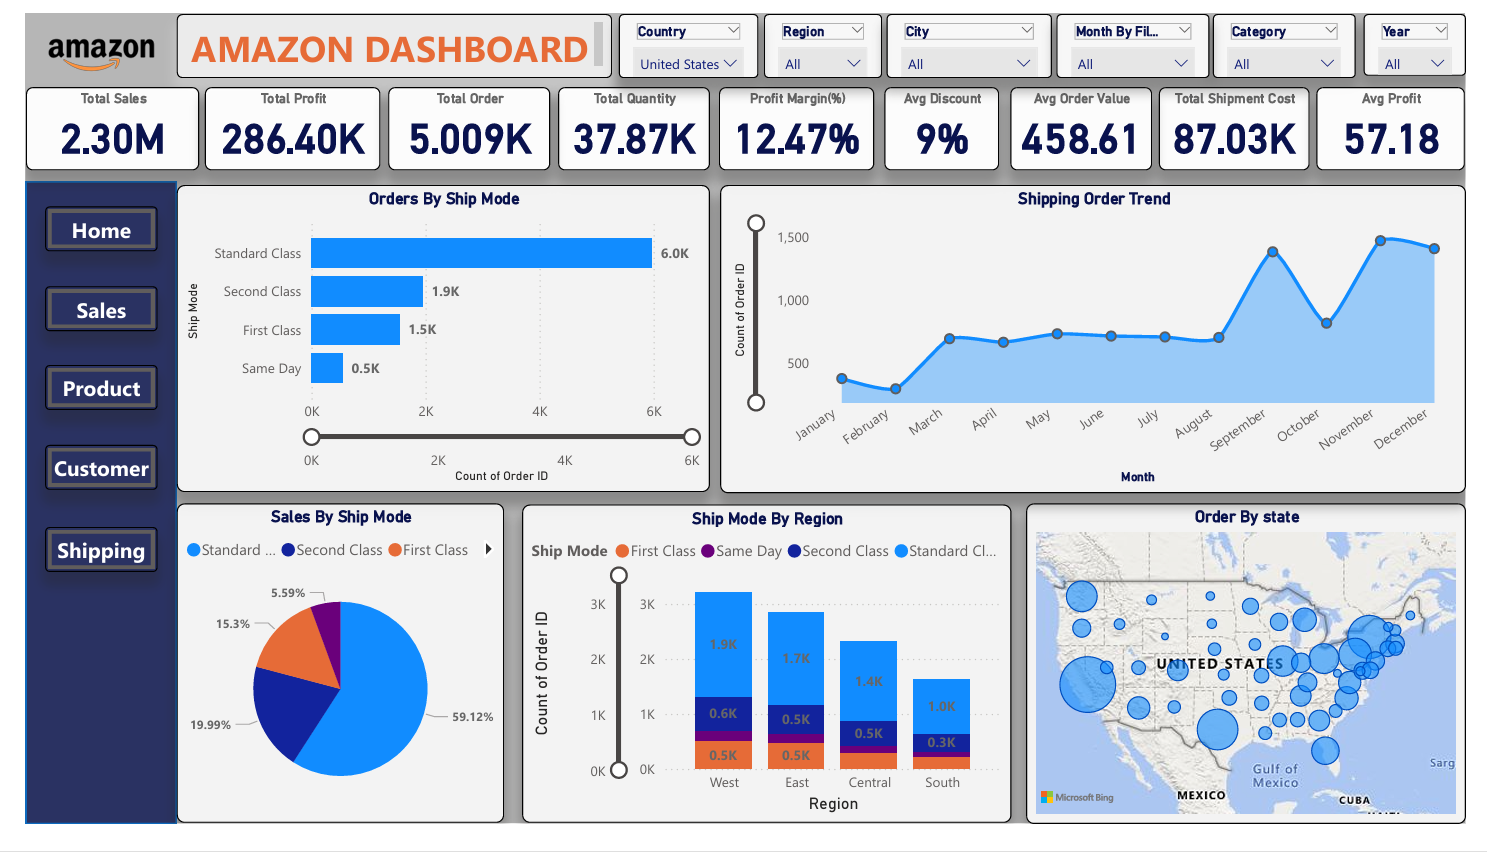

This screenshot's page, from the dashboard's own definition file:
{"tool":"powerbi","page":{"name":"Shipping overview","canvas":[1280,720],"ordinal":5},"visuals":[{"type":"shape","box":[0,149.5,134,570.1],"z":0},{"type":"textbox","box":[134,0,386.6,56.7],"z":1000},{"type":"card","title":"Total Sales","fields":{"Values":["All Mesure.Total Sales"]},"box":[0,64.9,153.6,74.2],"z":2000},{"type":"card","title":"Total Profit","fields":{"Values":["All Mesure.Total Profit"]},"box":[158.8,64.9,156.7,74.2],"z":3000},{"type":"card","title":"Total Quantity","fields":{"Values":["All Mesure.Total Quantity"]},"box":[473.2,64.9,135.1,74.2],"z":4000},{"type":"card","title":"Total Order","fields":{"Values":["All Mesure.Total Ordes"]},"box":[321.6,64.9,144.3,74.2],"z":5000},{"type":"card","title":"Profit Margin(%)","fields":{"Values":["All Mesure.Profit Margin %"]},"box":[616.5,64.9,137.1,74.2],"z":6000},{"type":"card","title":"Avg Discount","fields":{"Values":["All Mesure.Avg Discount"]},"box":[762.9,64.9,102.1,74.2],"z":7000},{"type":"card","title":"Total Shipment Cost","fields":{"Values":["All Mesure.Total Shipment Cost"]},"box":[1007.2,64.9,134,74.2],"z":8000},{"type":"card","title":"Avg Order Value","fields":{"Values":["All Mesure.Avg Order value"]},"box":[875.3,64.9,125.8,74.2],"z":9000},{"type":"slicer","fields":{"Values":["Amazon Sales.Region"]},"box":[656,0,105,57],"z":10000},{"type":"slicer","fields":{"Values":["Amazon Sales.Year"]},"box":[1189,0,91,55],"z":11000},{"type":"slicer","fields":{"Values":["Amazon Sales.Category"]},"box":[1055,0,127,57],"z":12000},{"type":"slicer","fields":{"Values":["Amazon Sales.City"]},"box":[765,0,147,57],"z":13000},{"type":"slicer","fields":{"Values":["Amazon Sales.Country"]},"box":[527,0,124,57],"z":14000},{"type":"slicer","fields":{"Values":["Amazon Sales.Month Name"]},"box":[916,0,136,57],"z":15000},{"type":"card","title":"Avg Profit","fields":{"Values":["All Mesure.Avg Profit"]},"box":[1147.4,64.9,132,74.2],"z":16000},{"type":"clusteredBarChart","title":"Orders By Ship Mode","fields":{"Category":["Amazon Sales.Ship Mode"],"Y":["CountNonNull(Amazon Sales.Order ID)"]},"box":[134.5,152.3,473.4,273.1],"z":17000},{"type":"pieChart","title":"Sales By Ship Mode","fields":{"Category":["Amazon Sales.Ship Mode"],"Y":["All Mesure.Total Sales"]},"box":[134.5,435,290.9,284],"z":18000},{"type":"map","title":"Order By state","fields":{"Category":["Amazon Sales.State"],"Size":["CountNonNull(Amazon Sales.Order ID)"]},"box":[889.2,435,391.1,285.4],"z":19000},{"type":"lineChart","title":"Shipping Order Trend","fields":{"Category":["Amazon Sales.Order Date.Variation.Date Hierarchy.Month"],"Y":["CountNonNull(Amazon Sales.Order ID)"]},"box":[616.7,152.2,663.3,273.3],"z":20000},{"type":"columnChart","title":"Ship Mode By Region","fields":{"Series":["Amazon Sales.Ship Mode"],"Category":["Amazon Sales.Region"],"Y":["CountNonNull(Amazon Sales.Order ID)"]},"box":[441.1,435.6,434.4,283.3],"z":21000},{"type":"actionButton","box":[16.7,242.2,100,40],"z":22000},{"type":"actionButton","box":[16.7,171.1,100,40],"z":23000},{"type":"actionButton","box":[16.7,312.2,100,40],"z":24000},{"type":"actionButton","box":[16.7,383.3,100,40],"z":25000},{"type":"actionButton","box":[16.7,455.6,100,40],"z":26000},{"type":"image","box":[0,0,134.4,65.6],"z":27000}]}

Visuals, with their boxes in screenshot pixels (x1, y1, x2, y2), scaled from the page's 1280x720 canvas onto the 1487x852 screenshot:
shape: l=0, t=177, r=156, b=851
textbox: l=156, t=0, r=605, b=67
"Total Sales" card: l=0, t=77, r=178, b=165
"Total Profit" card: l=184, t=77, r=367, b=165
"Total Quantity" card: l=550, t=77, r=707, b=165
"Total Order" card: l=374, t=77, r=541, b=165
"Profit Margin(%)" card: l=716, t=77, r=875, b=165
"Avg Discount" card: l=886, t=77, r=1005, b=165
"Total Shipment Cost" card: l=1170, t=77, r=1326, b=165
"Avg Order Value" card: l=1017, t=77, r=1163, b=165
slicer - Amazon Sales.Region: l=762, t=0, r=884, b=67
slicer - Amazon Sales.Year: l=1381, t=0, r=1486, b=65
slicer - Amazon Sales.Category: l=1226, t=0, r=1373, b=67
slicer - Amazon Sales.City: l=889, t=0, r=1059, b=67
slicer - Amazon Sales.Country: l=612, t=0, r=756, b=67
slicer - Amazon Sales.Month Name: l=1064, t=0, r=1222, b=67
"Avg Profit" card: l=1333, t=77, r=1486, b=165
"Orders By Ship Mode" clusteredBarChart: l=156, t=180, r=706, b=503
"Sales By Ship Mode" pieChart: l=156, t=515, r=494, b=851
"Order By state" map: l=1033, t=515, r=1486, b=851
"Shipping Order Trend" lineChart: l=716, t=180, r=1486, b=504
"Ship Mode By Region" columnChart: l=512, t=515, r=1017, b=851
actionButton: l=19, t=287, r=136, b=334
actionButton: l=19, t=202, r=136, b=250
actionButton: l=19, t=369, r=136, b=417
actionButton: l=19, t=454, r=136, b=501
actionButton: l=19, t=539, r=136, b=586
image: l=0, t=0, r=156, b=78
